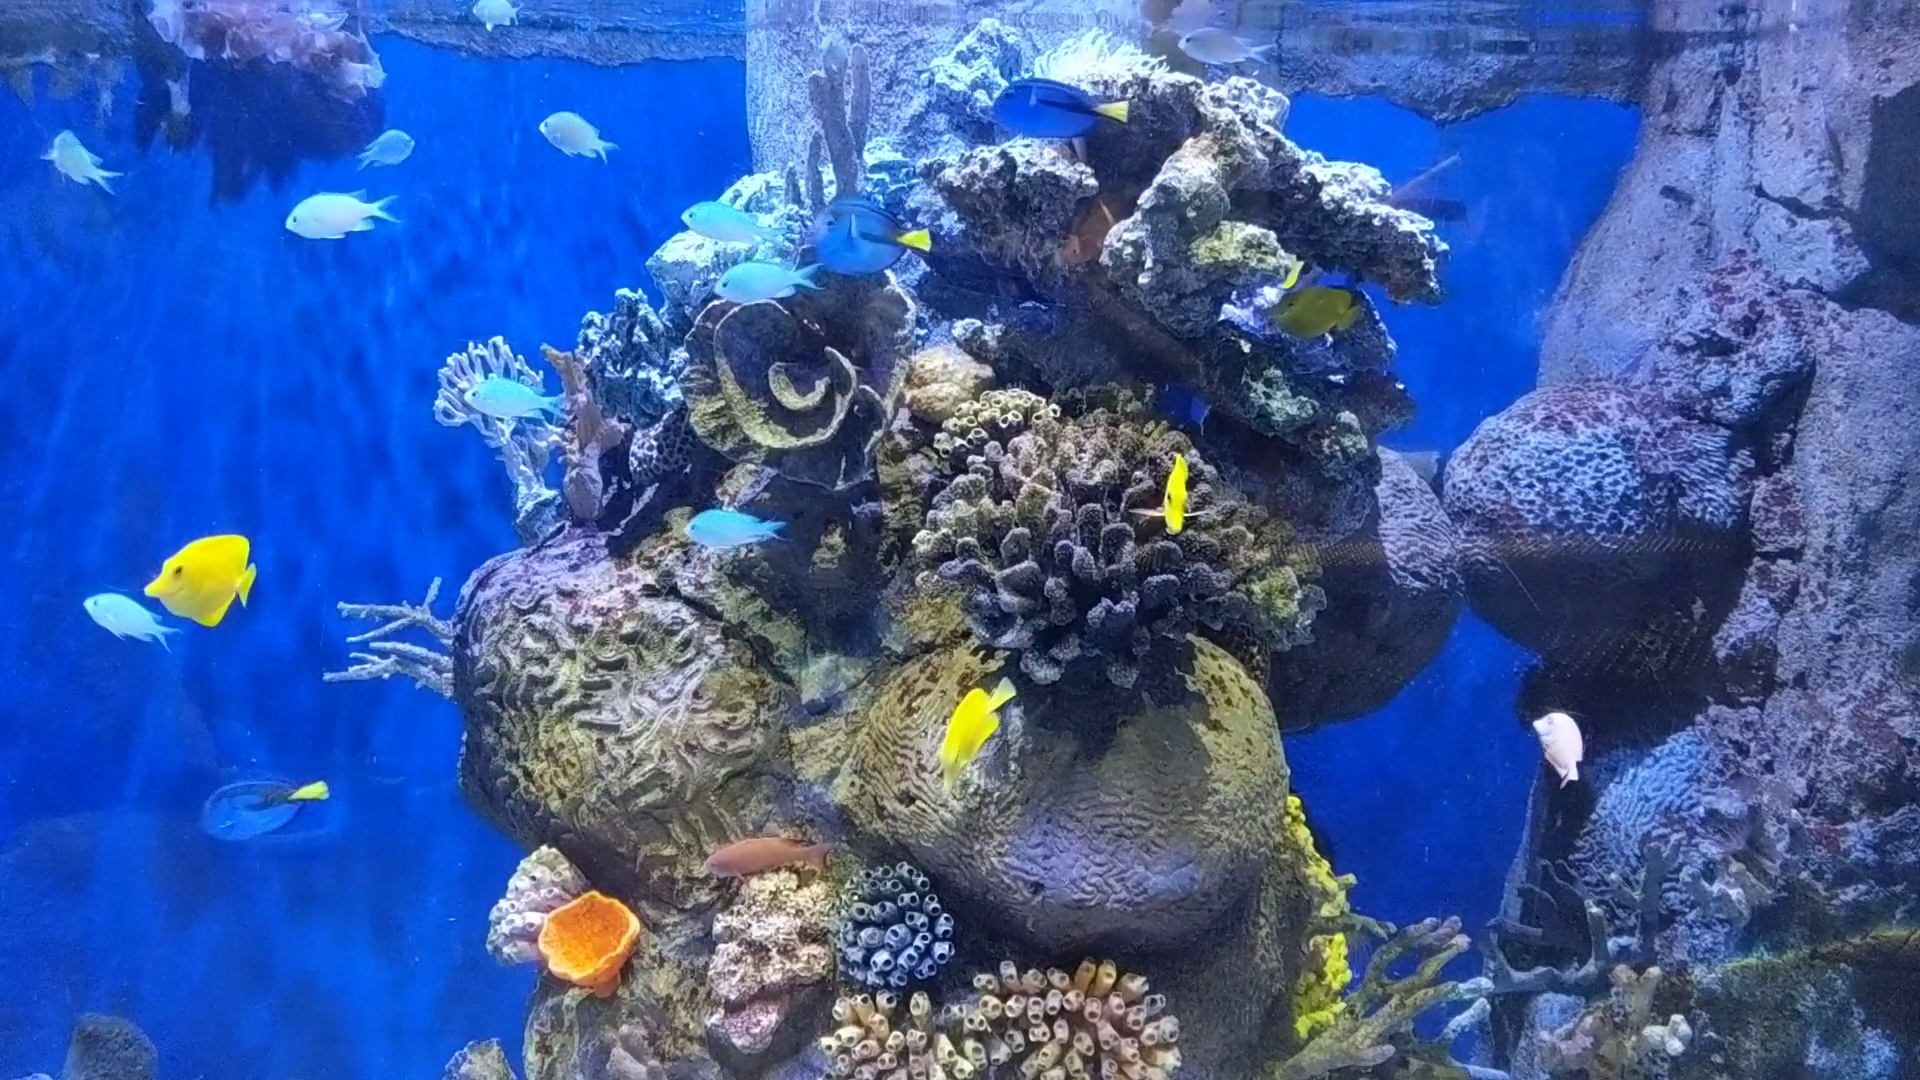blue tang surgeonfish: (951, 57, 1131, 153), (783, 181, 947, 282), (189, 758, 328, 861)
damselfish: (22, 117, 145, 214), (268, 179, 398, 265), (452, 348, 574, 438), (73, 578, 179, 655), (666, 189, 779, 253), (522, 94, 616, 171), (707, 251, 819, 314), (670, 496, 787, 554), (1174, 18, 1280, 75), (353, 111, 426, 171)
pink fish: (1513, 688, 1600, 806)
saddle butterfly fish: (131, 524, 268, 638), (915, 665, 1021, 802), (1266, 280, 1370, 348), (1143, 440, 1205, 538)
